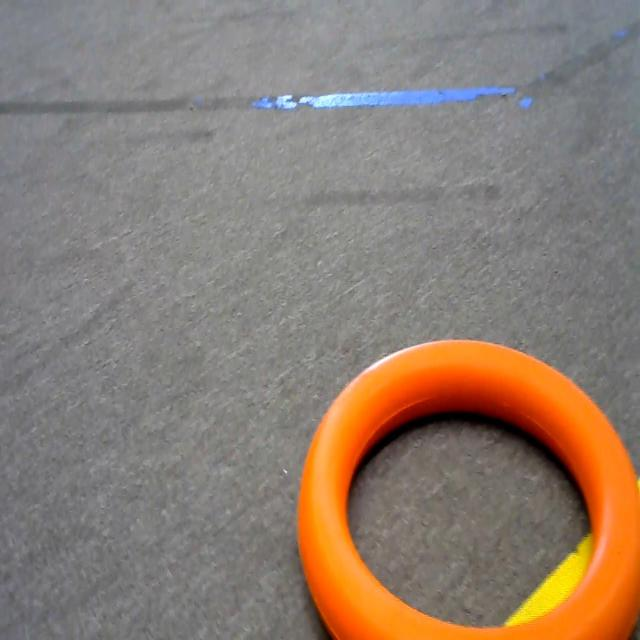note: (294, 306, 640, 639)
